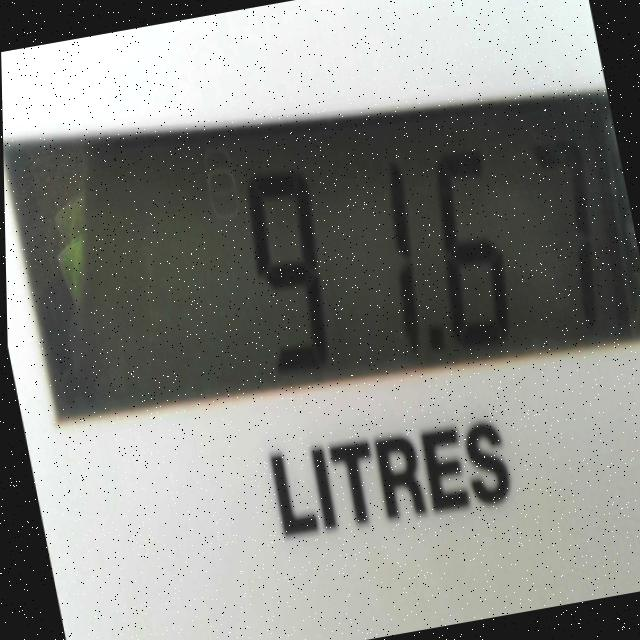.: (424, 314, 445, 354)
1: (371, 147, 426, 356)
6: (423, 144, 522, 350)
7: (519, 135, 618, 348)
9: (239, 163, 342, 384)
